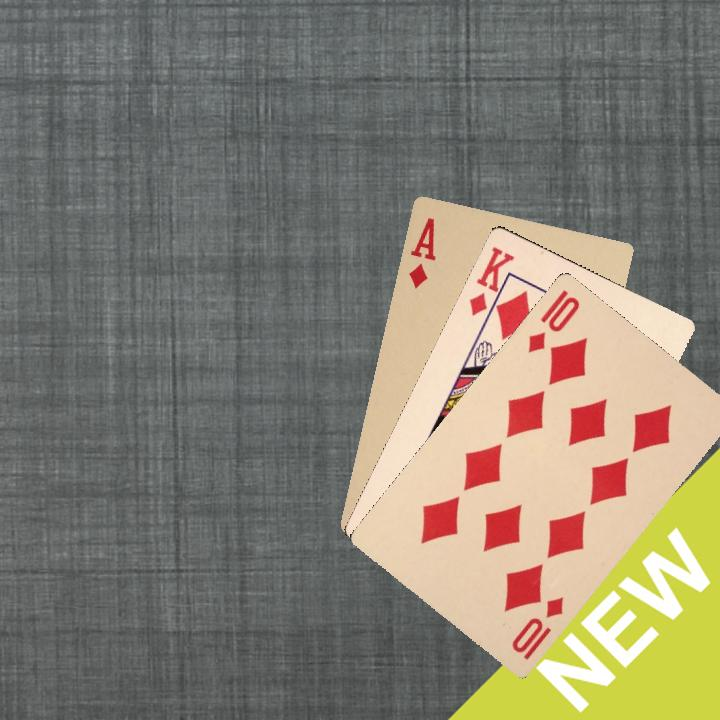10d: (523, 285, 583, 356), (507, 592, 566, 662)
Ad: (404, 213, 439, 290)
Kd: (465, 242, 517, 323)
